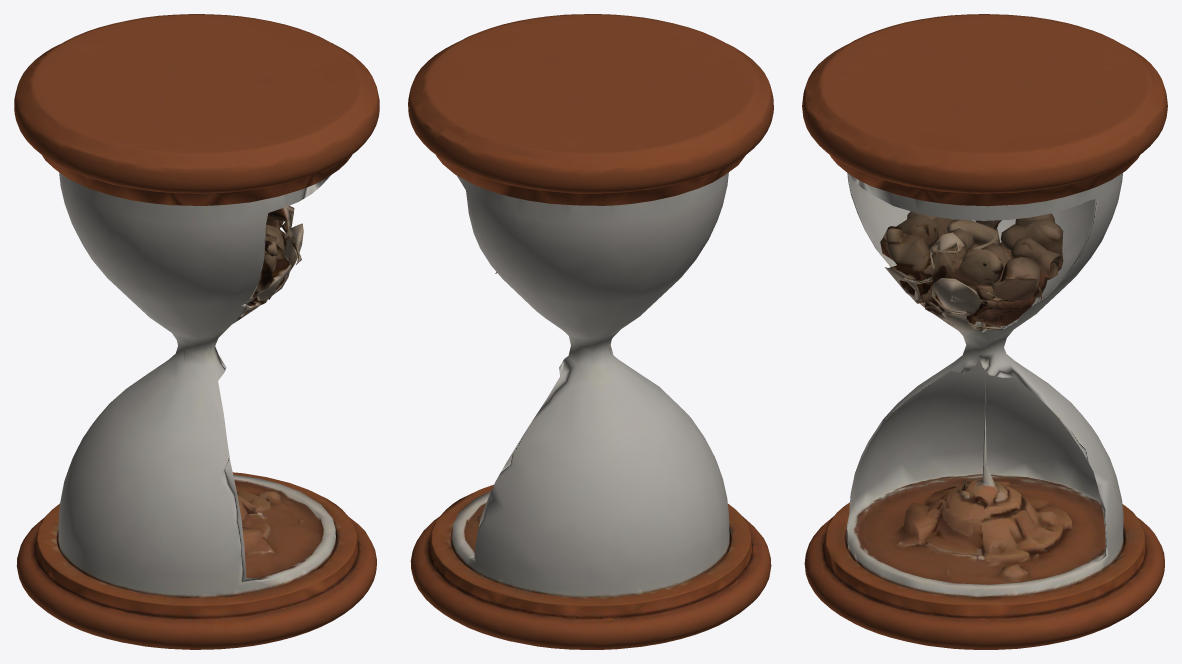
The model's file is photoreal-hour-glass-7671001d.glb.
The picture shows the model from 3 angles, left to right: view 1: azimuth 30°, elevation 25°; view 2: azimuth 150°, elevation 25°; view 3: azimuth 270°, elevation 25°; orthographic projection.
Parts seen in each view (by area): view 1: tripo_node_deb19d4d-2c67-44d9-9529-5e407cd97542; view 2: tripo_node_deb19d4d-2c67-44d9-9529-5e407cd97542; view 3: tripo_node_deb19d4d-2c67-44d9-9529-5e407cd97542.
Part boxes in pixels (x1,y1,x2,y2): tripo_node_deb19d4d-2c67-44d9-9529-5e407cd97542: (14,14,379,649); tripo_node_deb19d4d-2c67-44d9-9529-5e407cd97542: (408,14,773,649); tripo_node_deb19d4d-2c67-44d9-9529-5e407cd97542: (802,14,1167,649).
Bounding box in the file's own units: 0.6629 × 1 × 0.663.
1 material, 1 textured.
